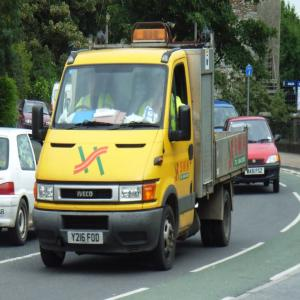Vehicle-registration-plate: (68, 231, 105, 244), (246, 168, 266, 178)
